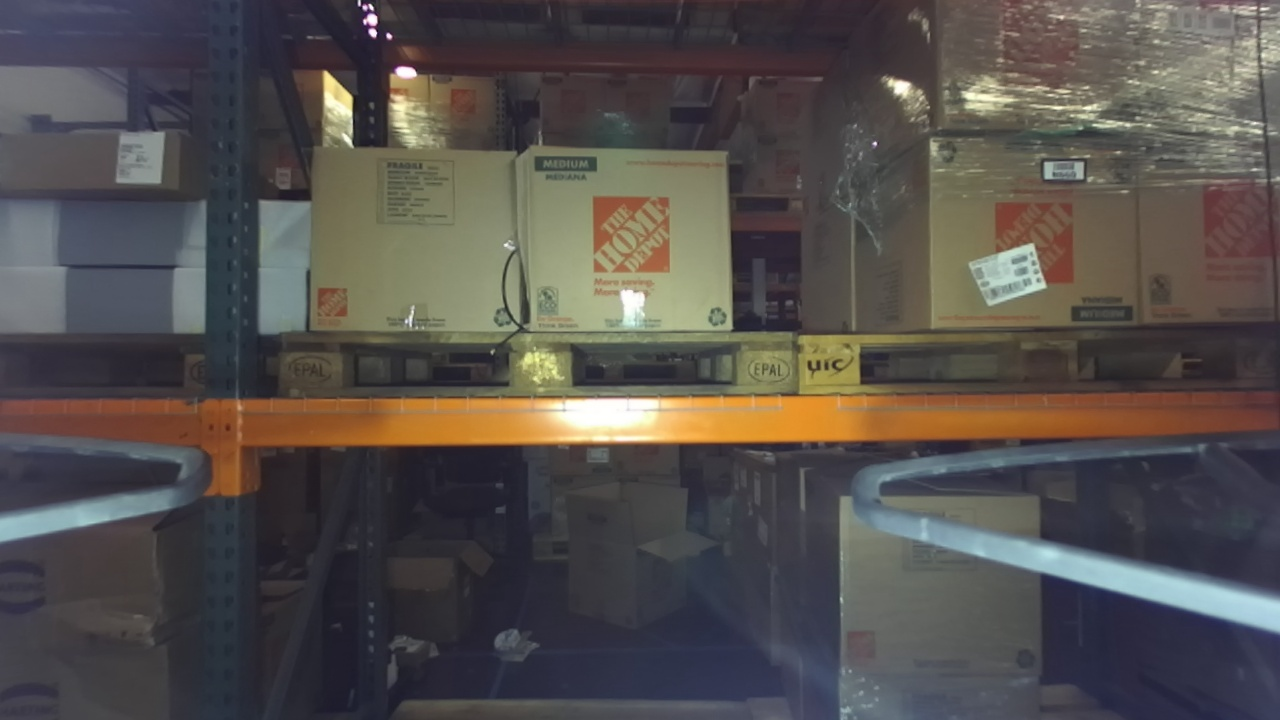box: (797, 459, 1076, 697), (882, 120, 1167, 343), (281, 120, 553, 348), (490, 129, 755, 355), (878, 5, 1171, 164), (1126, 129, 1280, 345), (1, 118, 200, 214)
